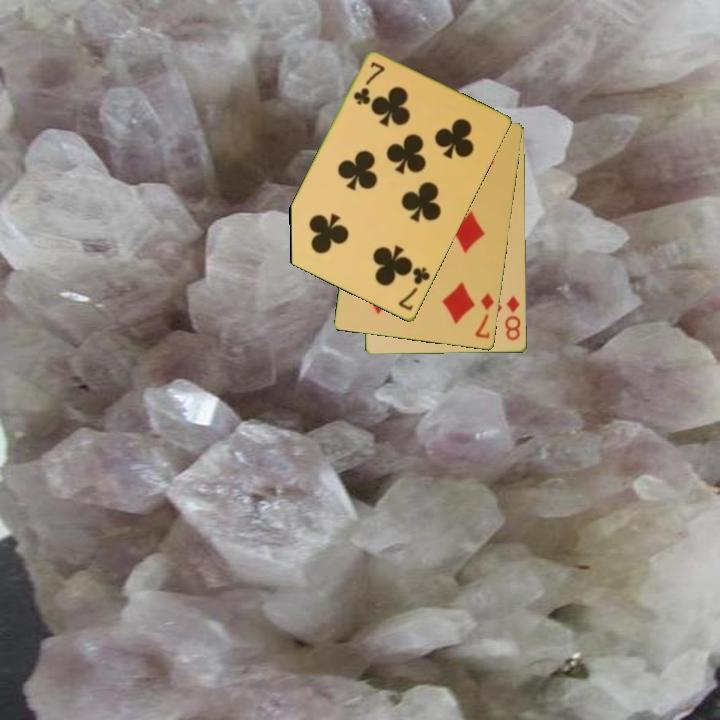7c: (395, 264, 433, 314), (350, 58, 388, 108)
7d: (472, 289, 497, 342)
8d: (502, 292, 524, 344)
